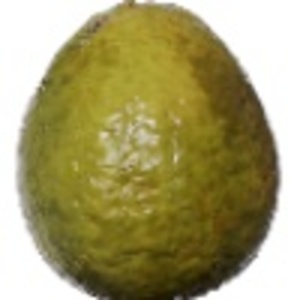goiaba: (7, 3, 286, 297)
